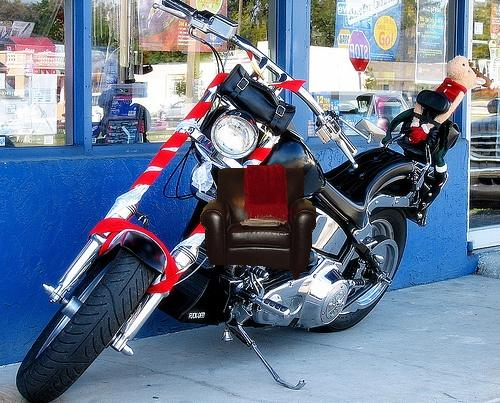tampered: (201, 165, 316, 279)
